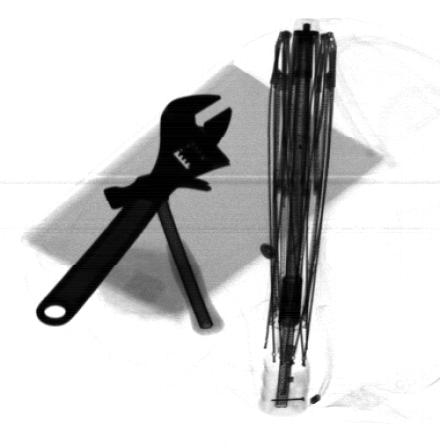Hammer: (103, 170, 225, 338)
Wrench: (35, 95, 234, 327)
